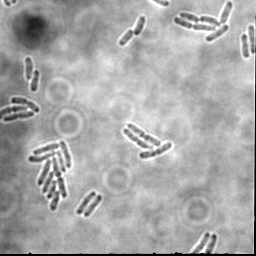Dividing: (118, 14, 147, 47), (127, 122, 162, 146), (122, 127, 154, 150), (138, 141, 174, 160), (10, 96, 41, 113), (0, 104, 28, 120), (3, 110, 35, 123)
Microcolony: (26, 140, 73, 213), (174, 1, 233, 43)
Rod: (75, 191, 97, 215), (83, 194, 103, 218), (240, 32, 251, 59), (29, 69, 40, 93), (24, 56, 34, 81), (248, 24, 255, 54)
